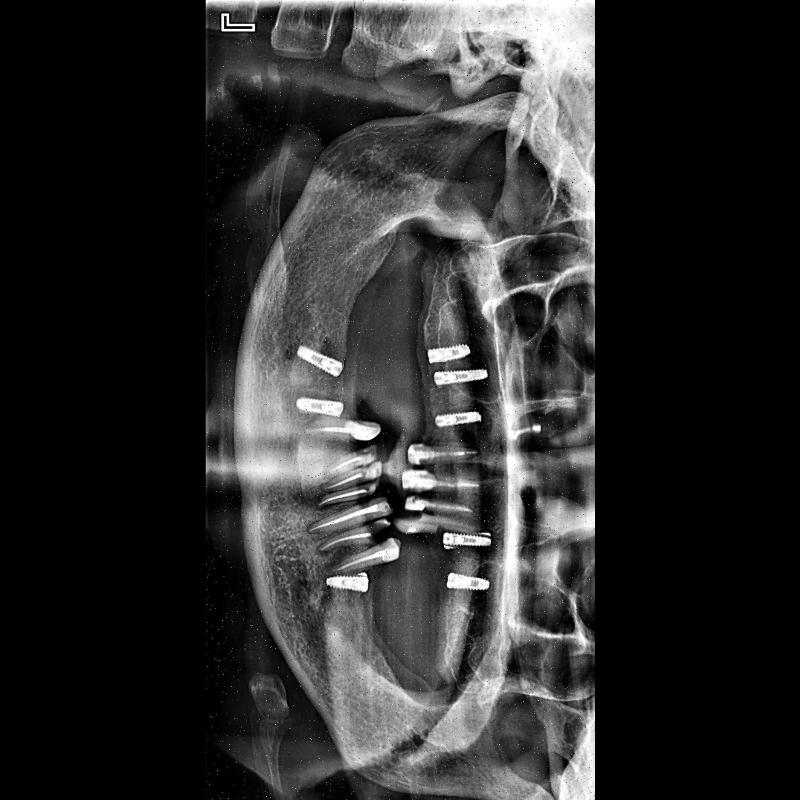osstem: (429, 360, 491, 391), (293, 341, 345, 377), (434, 528, 496, 554), (320, 570, 374, 598), (442, 570, 494, 596), (290, 392, 342, 416), (431, 407, 479, 431), (427, 338, 472, 362)
